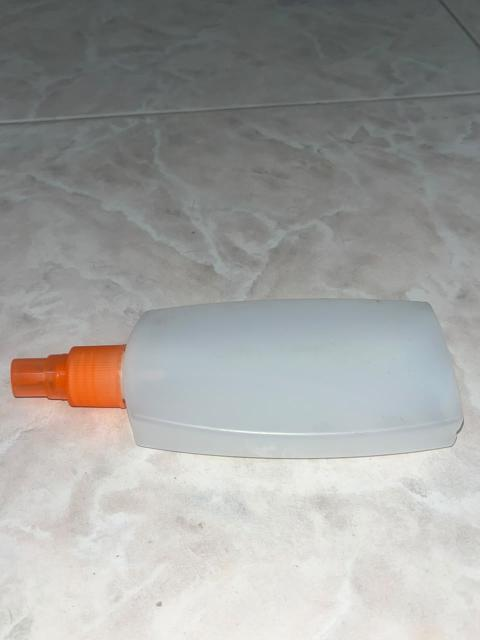HDPE: (2, 256, 480, 495)
